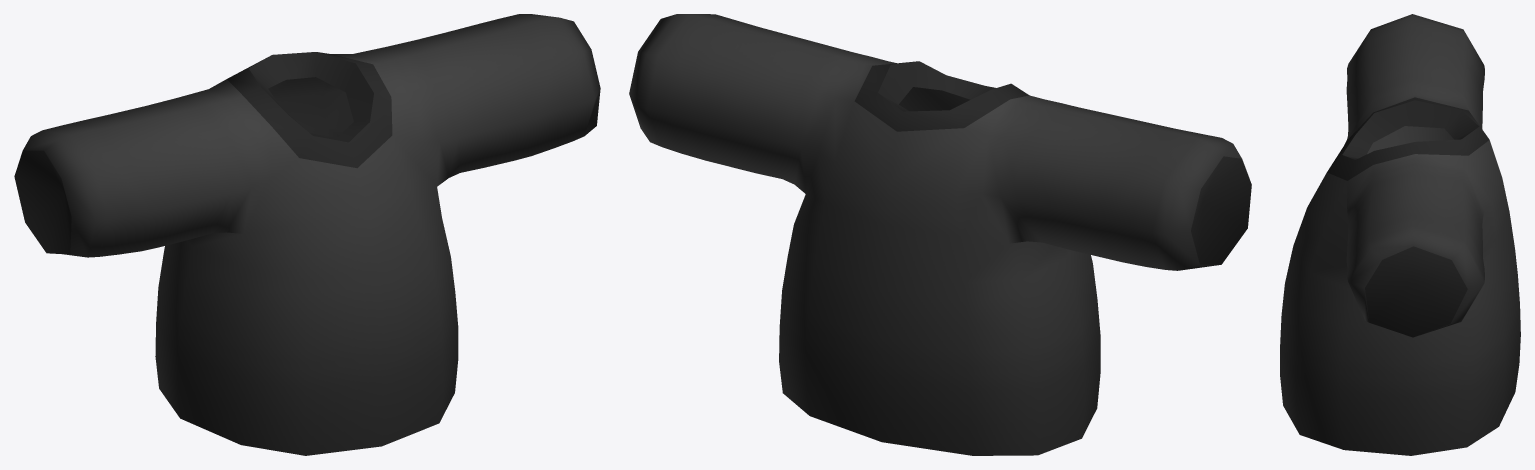
Rendered from Top_8.fbx.
3 views of the same model, side by side, from view 1: azimuth 30°, elevation 25°; view 2: azimuth 150°, elevation 25°; view 3: azimuth 270°, elevation 25° (orthographic). The views are drawn at different scales.
Parts seen in each view (by area): view 1: Top_8; view 2: Top_8; view 3: Top_8.
Boxes of the visible parts, bbox=[...] form: Top_8: bbox=[14, 14, 600, 455]; Top_8: bbox=[629, 14, 1251, 455]; Top_8: bbox=[1280, 14, 1520, 455].
Size of the model in its own units: 83.07 by 47.57 by 36.49.
